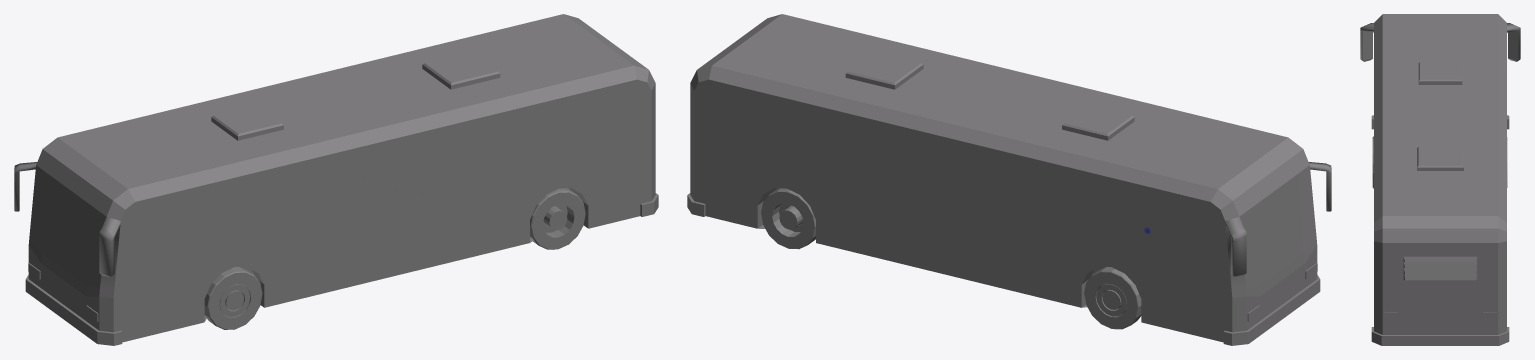
The model's file is bus.fbx.
3 renders of one model, left to right at view 1: azimuth 30°, elevation 25°; view 2: azimuth 150°, elevation 25°; view 3: azimuth 270°, elevation 25°, orthographic. The views are drawn at different scales.
Parts seen in each view (by area): view 1: node_id5; view 2: node_id5; view 3: node_id5.
Part boxes in pixels (x1,y1,x2,y2): node_id5: [14, 14, 658, 345]; node_id5: [687, 14, 1331, 345]; node_id5: [1360, 14, 1520, 345].
Bounding box in the file's own units: 0.512 × 0.1443 × 0.1534.
1 material, 1 textured.
